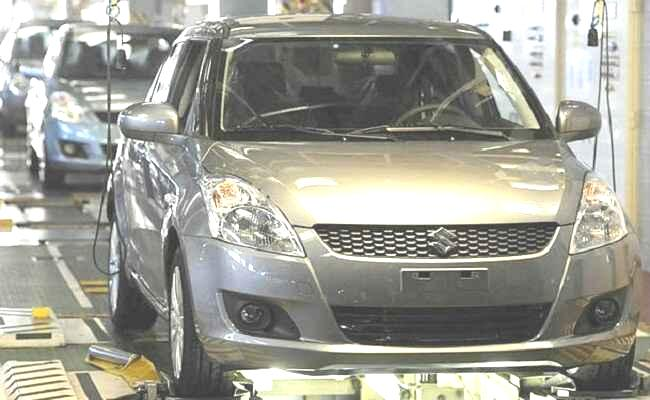suzuki: (424, 225, 462, 258)
